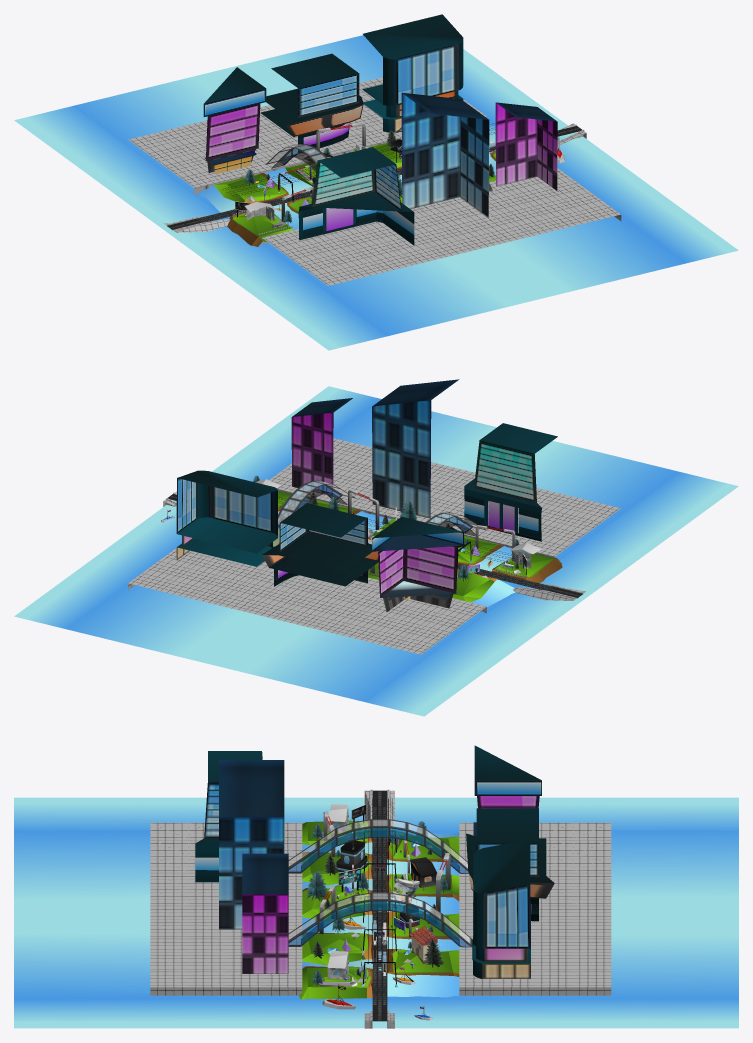
The model's file is subwaysurferstest92.glb.
3 views of the same model, one above another, from view 1: azimuth 30°, elevation 25°; view 2: azimuth 150°, elevation 25°; view 3: azimuth 270°, elevation 25° (orthographic). The views are drawn at different scales.
Visible parts, largest first — view 1: Water, tile.024, building.003, tile.001, building.008, building, building.004, Ground, building.005, building.007, bridge.002; view 2: Water, tile.001, tile.024, building, building.003, building.008, building.004, building.005, Ground, building.007, bridge, bridge.002; view 3: Water, tile.024, tile.001, Ground, building.003, building, building.007, building.004, bridge, bridge.002, building.005, building.008 (+5 smaller).
Boxes of the visible parts, x1,y1,x2,y2 form: Water: (14,35,738,350); tile.024: (262,168,621,285); building.003: (401,92,489,217); tile.001: (128,77,486,194); building.008: (298,147,414,245); building: (362,14,463,132); building.004: (260,53,363,152); Ground: (197,124,562,246); building.005: (203,67,266,174); building.007: (495,102,557,190); bridge.002: (265,144,327,172); Water: (14,386,738,716); tile.001: (128,548,486,654); tile.024: (269,438,620,557); building: (176,470,277,566); building.003: (372,379,459,518); building.008: (464,423,557,541); building.004: (262,503,378,586); building.005: (372,517,464,611); Ground: (273,491,562,613); building.007: (291,398,352,495); bridge: (273,480,356,546); bridge.002: (425,512,486,536); Water: (14,797,738,1028); tile.024: (150,822,302,995); tile.001: (459,822,611,995); Ground: (299,820,459,999); building.003: (219,760,284,929); building: (472,839,530,978); building.007: (242,853,288,973); building.004: (466,808,554,921); bridge: (288,892,472,947); bridge.002: (288,819,468,873); building.005: (473,745,541,836); building.008: (195,751,262,882).
Size of the model in its own units: 562 by 173 by 744.
Materials: 4 (4 with a texture image).
